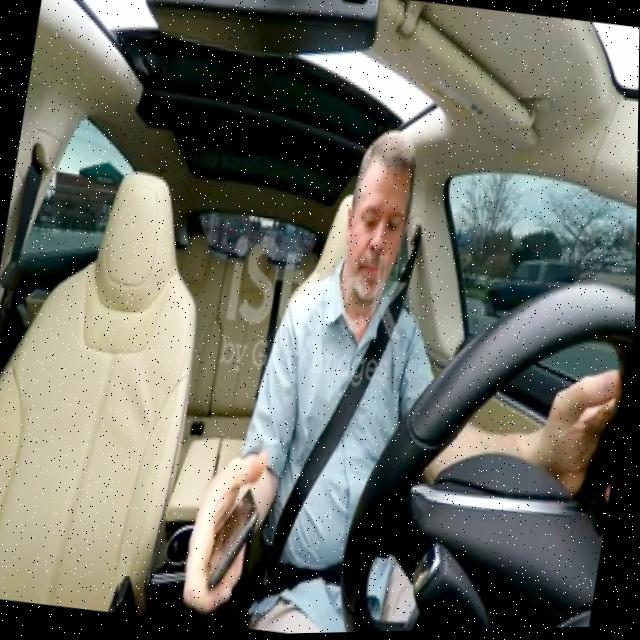PhoneCall: (203, 477, 266, 599)
